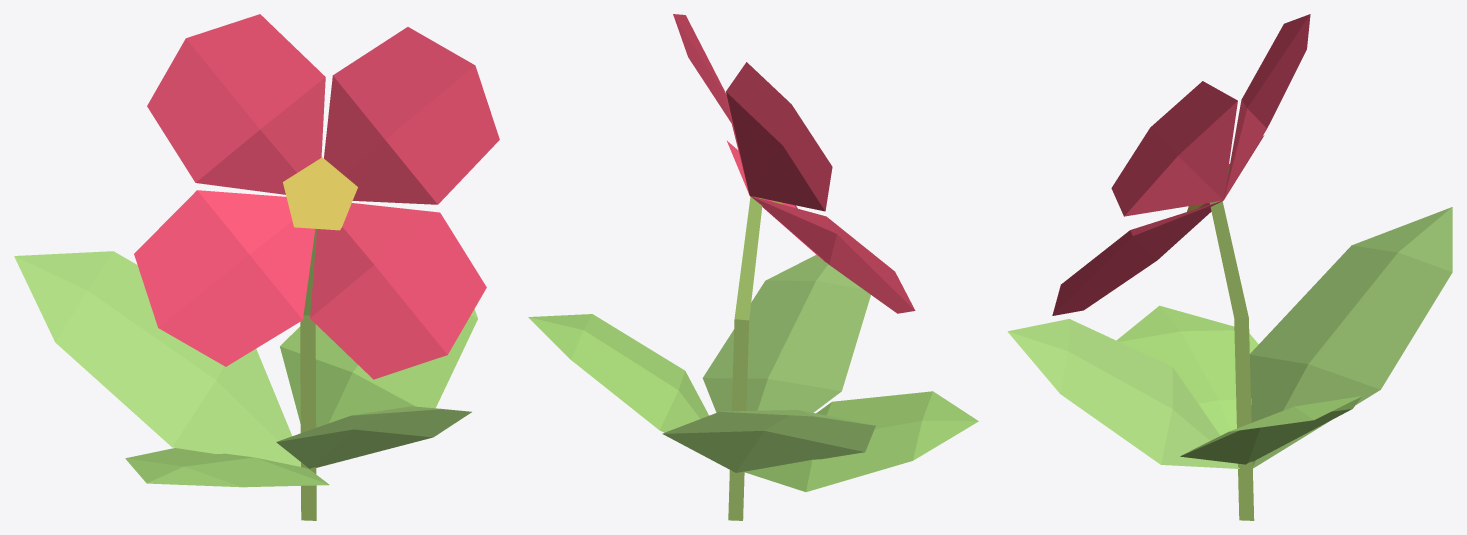
Rendered from Flower_c_TwoS_15.fbx.
3 views of the same model, side by side, from view 1: azimuth 30°, elevation 25°; view 2: azimuth 150°, elevation 25°; view 3: azimuth 270°, elevation 25° (orthographic). The views are drawn at different scales.
Parts seen in each view (by area): view 1: Flower_c_TwoS_15; view 2: Flower_c_TwoS_15; view 3: Flower_c_TwoS_15.
Boxes of the visible parts, x1,y1,x2,y2 form: Flower_c_TwoS_15: (14, 14, 499, 520); Flower_c_TwoS_15: (528, 14, 978, 520); Flower_c_TwoS_15: (1007, 14, 1452, 520).
Size of the model in its own units: 0.3515 by 0.4285 by 0.3595.
